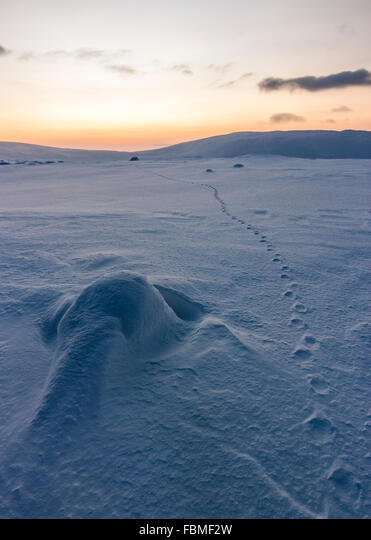fox: (307, 412, 339, 449), (308, 372, 332, 401), (293, 344, 319, 369)
